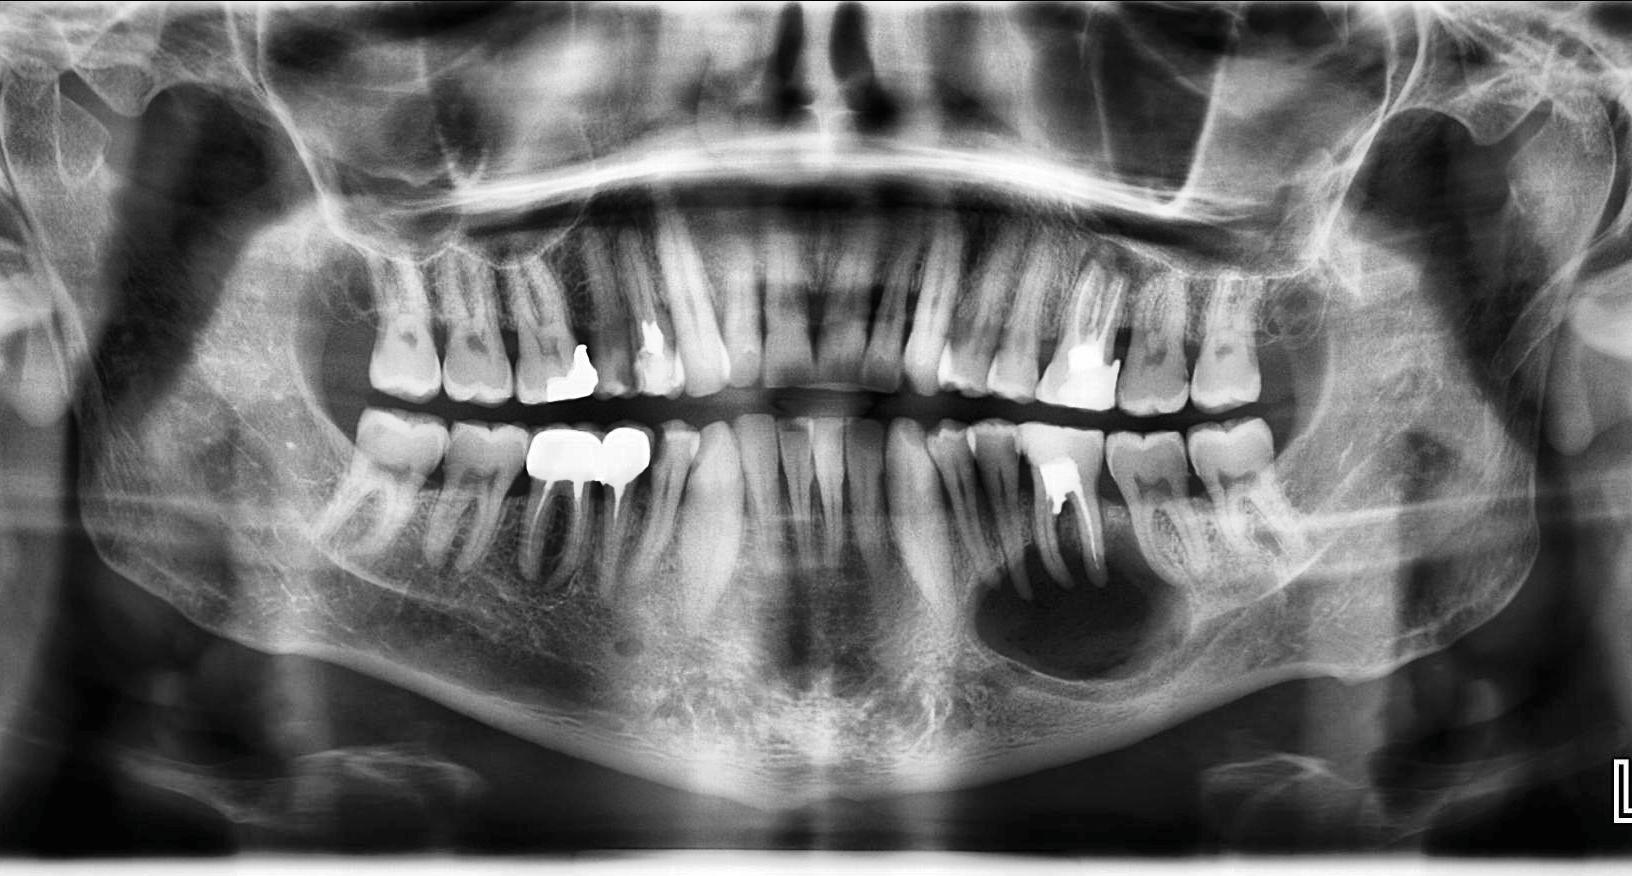radikuler: (972, 537, 1194, 684)
